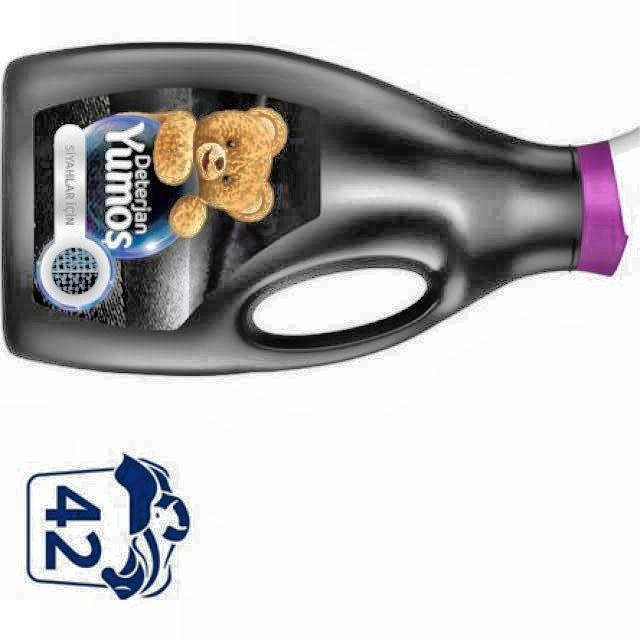plastic: (2, 44, 639, 375)
